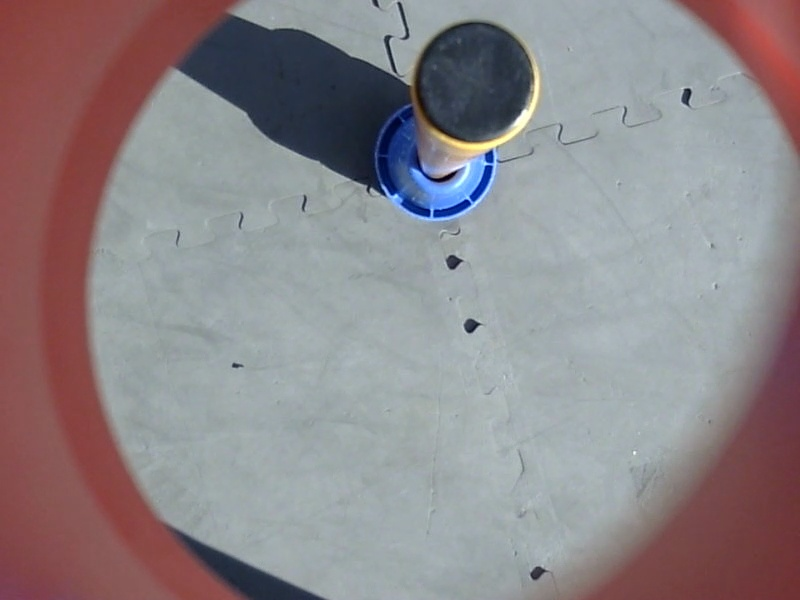tip: (395, 11, 554, 156)
